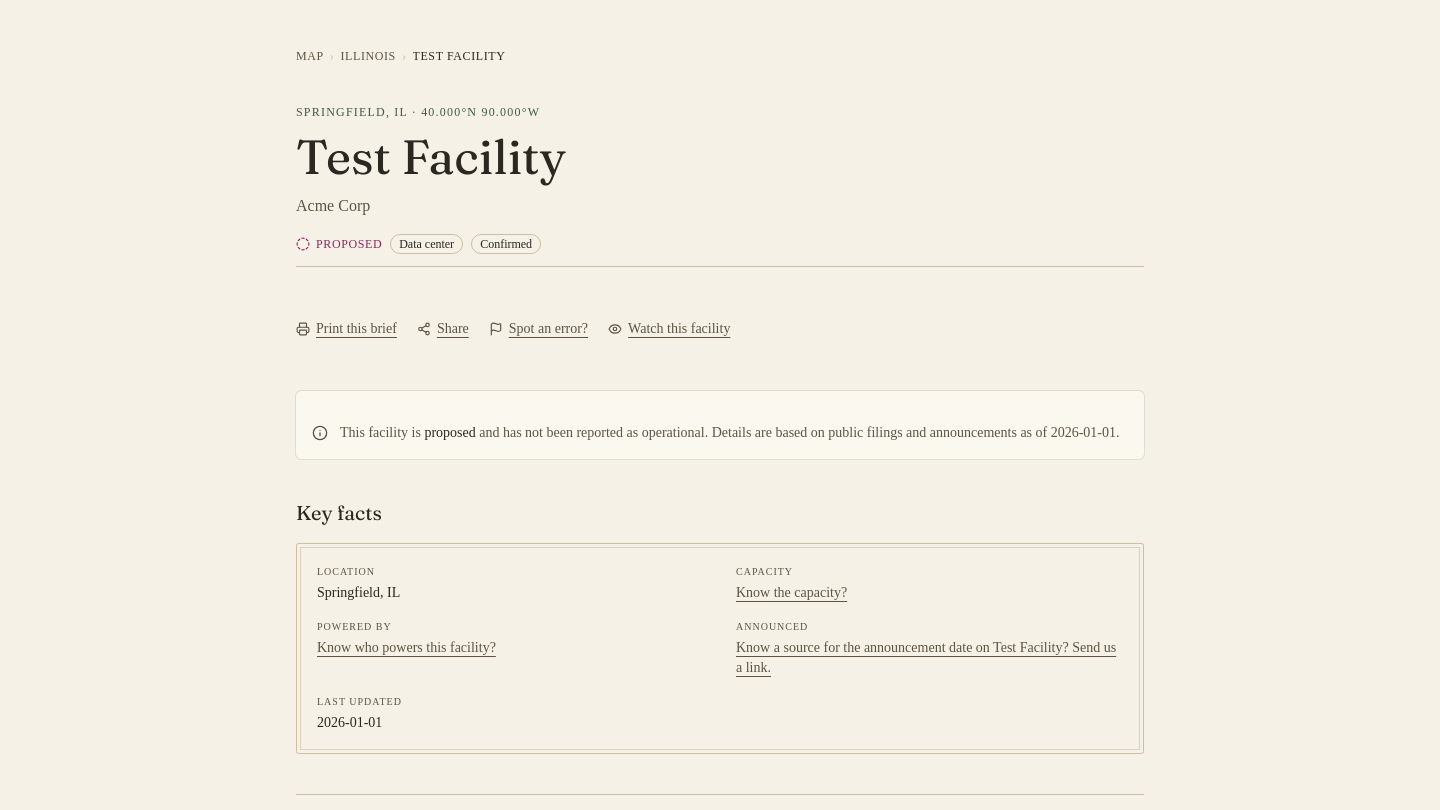
FacilityPage — correction dialogs › a proposed facility with no capacity opens 'Know the capacity?' on planned capacity
Click the button "Know the capacity?". click: (792, 593)
box: x1=736 y1=583 x2=847 y2=603
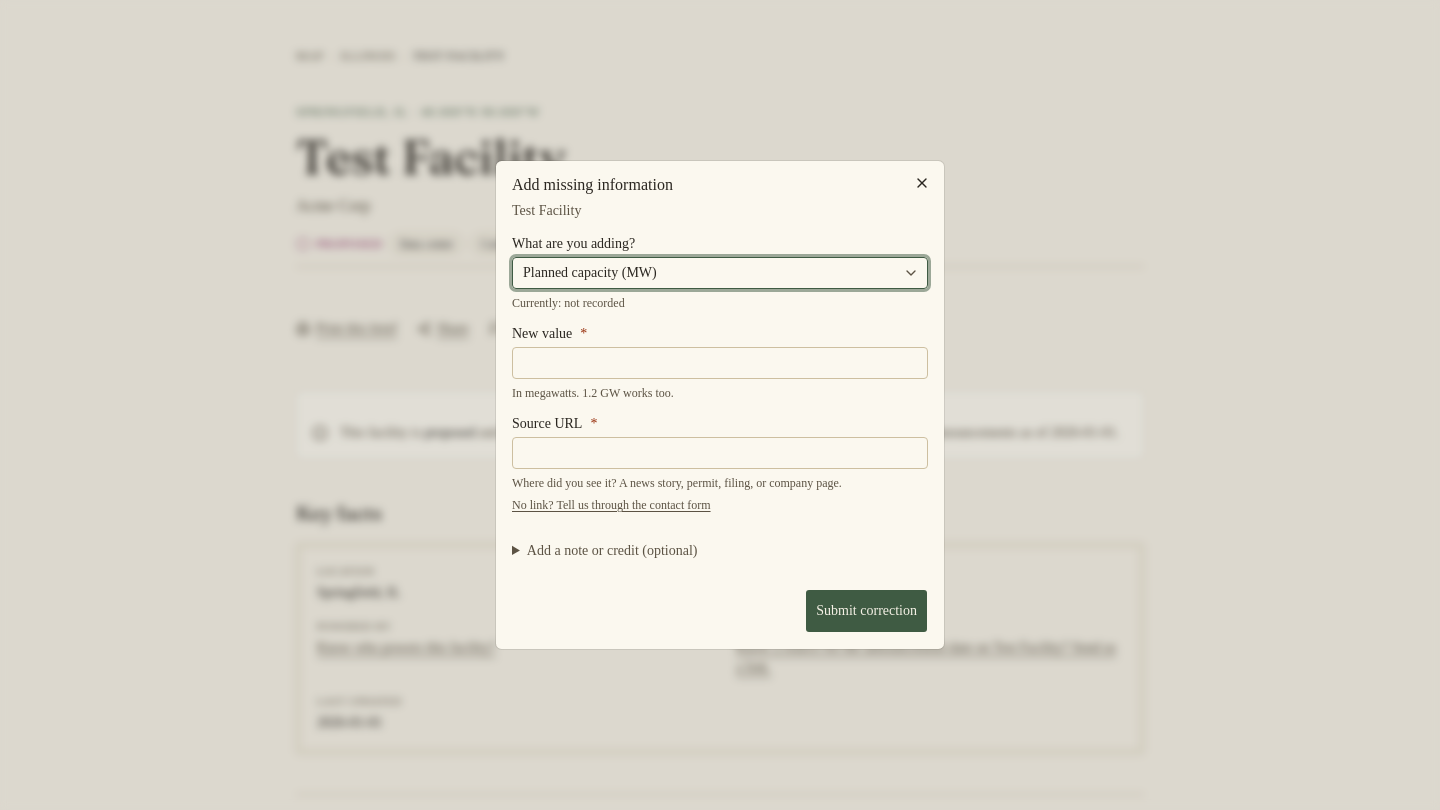
Now the dropdown named "what are you adding" shows "Planned capacity (MW)", box x1=512 y1=257 x2=928 y2=289
Now the text "Currently: not recorded" is shown, box x1=512 y1=296 x2=625 y2=310
